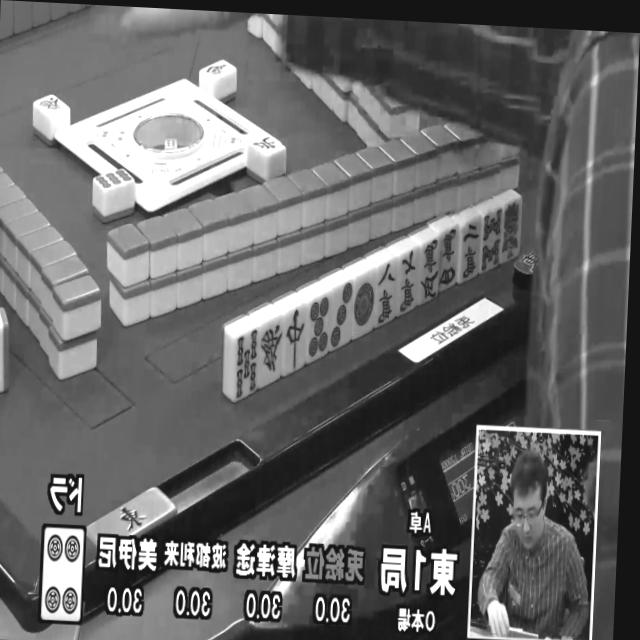fa: (258, 320, 284, 385)
m2: (459, 218, 484, 283)
m4: (437, 228, 461, 293)
m5: (415, 240, 439, 306)
m7: (396, 247, 423, 315)
m8: (371, 259, 399, 328)
s1: (501, 200, 523, 264)
s5: (228, 327, 262, 405)
s8: (479, 207, 503, 273)
t1: (349, 274, 376, 338)
t3: (328, 279, 354, 351)
t4: (37, 526, 87, 622)
t5: (305, 294, 333, 364)
zhong: (282, 306, 310, 375)
